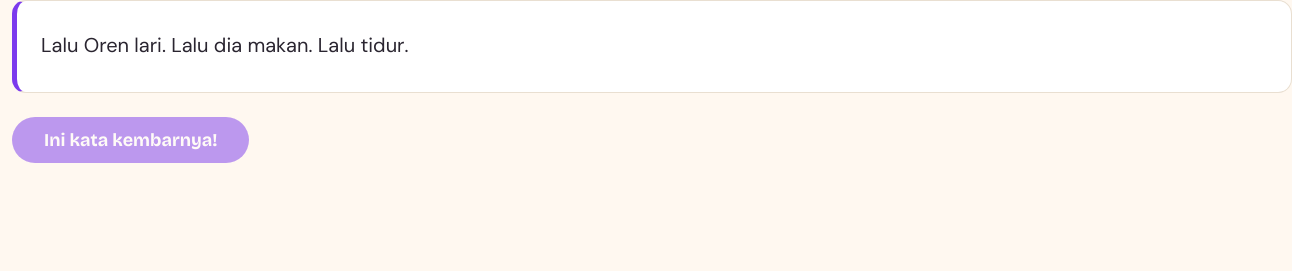
DetektorKembar › kata umum tidak dihitung
Step 1. Click the button "dia" → (228, 46), box [214, 25, 242, 68]
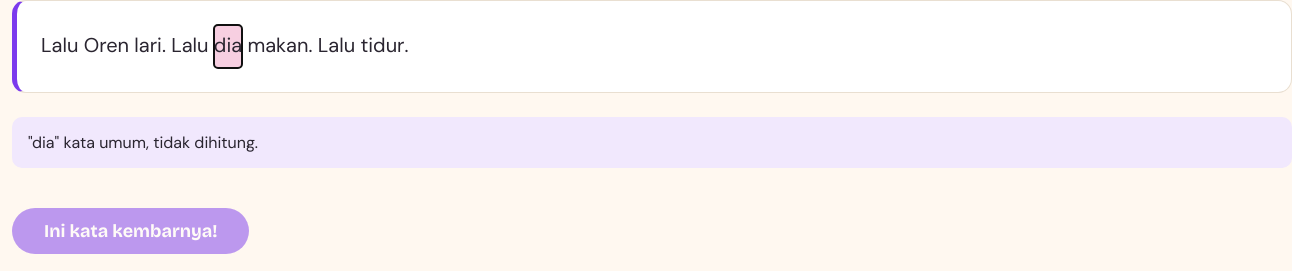
Expected: the button "Ini kata kembarnya!" is disabled, [12, 208, 250, 254]
Result: the message shows "kata umum" at [28, 132, 258, 153]
